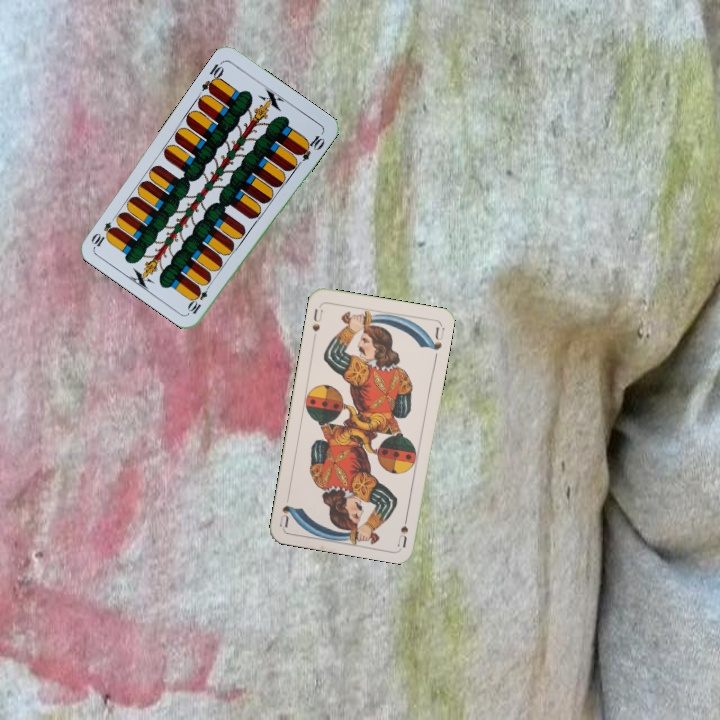E10: (184, 279, 214, 317), (198, 57, 227, 96)
SU: (393, 508, 411, 549), (308, 305, 326, 342)
